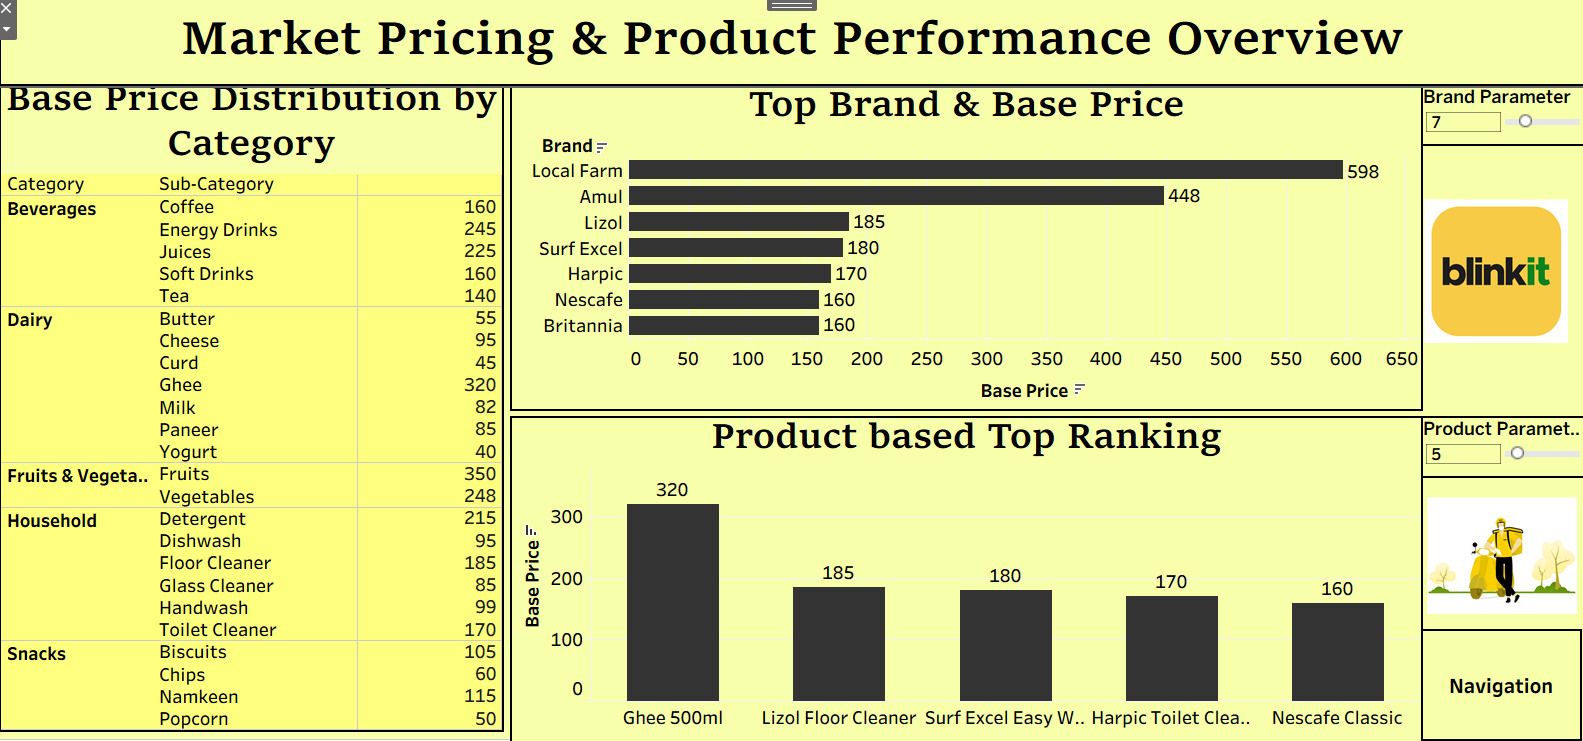

This screenshot's page, from the dashboard's own definition file:
{"tool":"tableau","page":{"name":"Market Research","canvas":[1000,1000],"units":"permille","ordinal":1},"visuals":[{"type":"image","box":[0,0,1000,1000]},{"type":"text","box":[7.3,0,989.1,117.4]},{"type":"worksheet","title":"Base Price Distribution by Category","mark":"Automatic","rows":["Category","Sub-Category"],"box":[7.5,105.9,314.8,878]},{"type":"worksheet","title":"Top Brand & Base Price","mark":"Automatic","rows":["Brand"],"cols":["Base Price"],"box":[326.1,115.1,569.1,438.4]},{"type":"parameter","param":"[Parameters].[Parameter 1]","box":[893.9,115.1,102.4,83.7]},{"type":"image","param":"Image/image.png","box":[895.8,269.8,100,193]},{"type":"worksheet","title":"Product based Top Ranking","mark":"Automatic","rows":["Base Price"],"cols":["Product Name"],"box":[326.1,560.5,569.1,438.4]},{"type":"parameter","param":"[Parameters].[Parameter 2]","box":[893.9,560.5,102.4,82.6]},{"type":"image","param":"Image/image2.jpg","box":[897.6,668.6,93.9,211.6]},{"type":"dashboard-object","box":[893.9,846.5,100.6,150]}]}

Visuals, with their boxes on the dashboard's canvas, which has no fixed pixel size, in thousandths of its width and height (x1, y1, x2, y2). These are canvas units, not pixel positions in the 1583x741 screenshot, which may show the page scaled, cropped or inside an application window:
image: 0 0 1000 1000
text: 7 0 996 117
"Base Price Distribution by Category" worksheet: 8 106 322 984
"Top Brand & Base Price" worksheet: 326 115 895 554
parameter: 894 115 996 199
image: 896 270 996 463
"Product based Top Ranking" worksheet: 326 560 895 999
parameter: 894 560 996 643
image: 898 669 992 880
dashboard-object: 894 846 994 996
